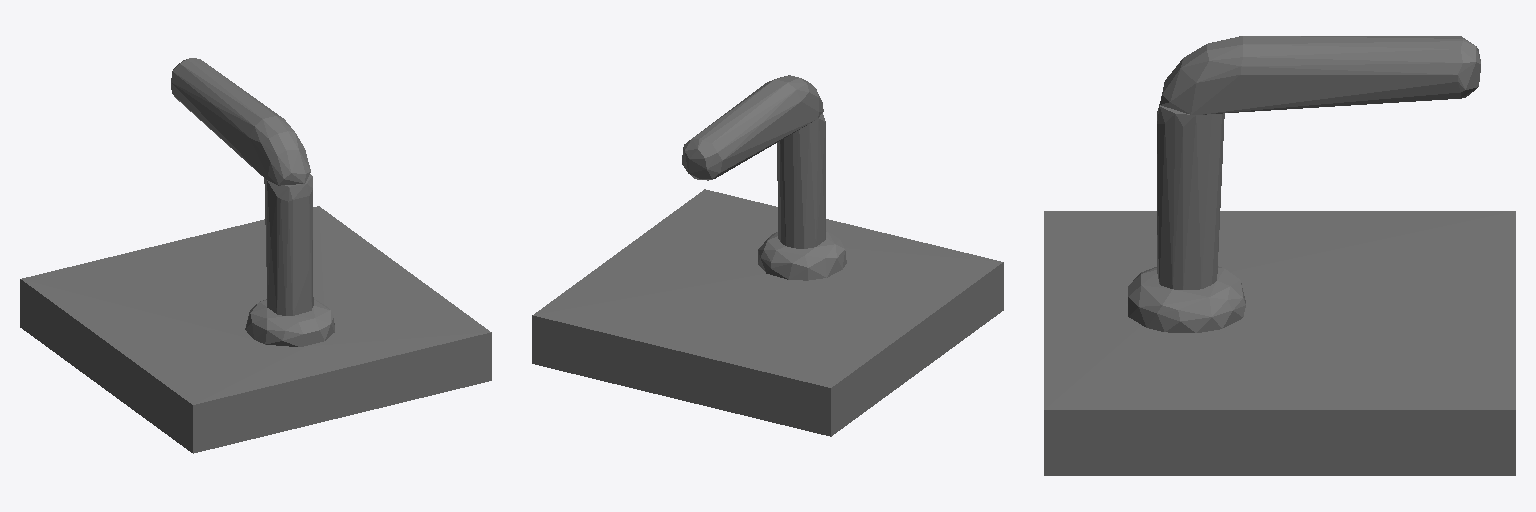
robot.urdf — base.urdf:
<?xml version='1.0' encoding='utf-8'?>
<robot name="base.urdf">
  <link name="baseLink">
    <contact>
      <lateral_friction value="0.5" />
      <rolling_friction value="0.0" />
      <contact_cfm value="0.0" />
      <contact_erp value="1.0" />
    </contact>
    <inertial>
      <origin rpy="0 0 0" xyz="1.2656639989958124e-06 -0.001136359090078852 0.015079270158053564" />
       <mass value="0.0" />
       <inertia ixx="1e-3" ixy="0" ixz="0" iyy="1e-3" iyz="0" izz="1e-3" />
    </inertial>
    <visual>
      <origin rpy="0 0 0" xyz="0 0 0" />
      <geometry>
        <mesh filename="base.obj" scale="0.5 0.5 0.5" />
      </geometry>
       <material name="gray">
        <color rgba="0.5 0.5 0.5 1" />
      </material>
    </visual>
    <collision>
      <geometry>
        <mesh filename="base.obj" scale="0.5 0.5 0.5" />
      </geometry>
    </collision>
  </link>
</robot>

--- Render facts (derived) ---
3 views of the same robot in one strip: view 1: azimuth 30°, elevation 25°; view 2: azimuth 150°, elevation 25°; view 3: azimuth 270°, elevation 25° (orthographic).
Robot: base.urdf — 1 links, 0 joints (none); root link baseLink; default pose: every joint at zero.
Links seen in each view (by area): view 1: baseLink; view 2: baseLink; view 3: baseLink.
Link boxes in pixels (x1,y1,x2,y2): baseLink: (20,58,491,453); baseLink: (532,75,1003,436); baseLink: (1044,36,1515,475).
Bounding box of the posed robot: 0.0503 × 0.0503 × 0.0397 m (x, y, z).
Meshes: 1 distinct files referenced, 1 mesh visuals loaded (1 OBJ).